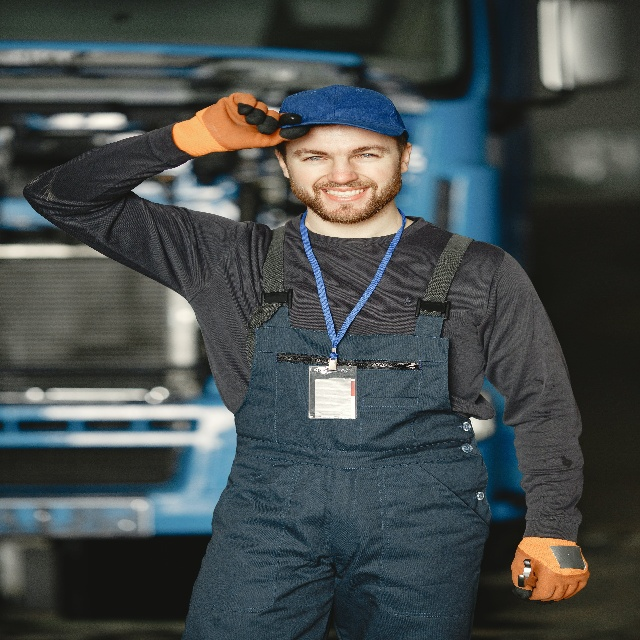Guantes: (174, 86, 300, 160), (510, 535, 591, 611)
